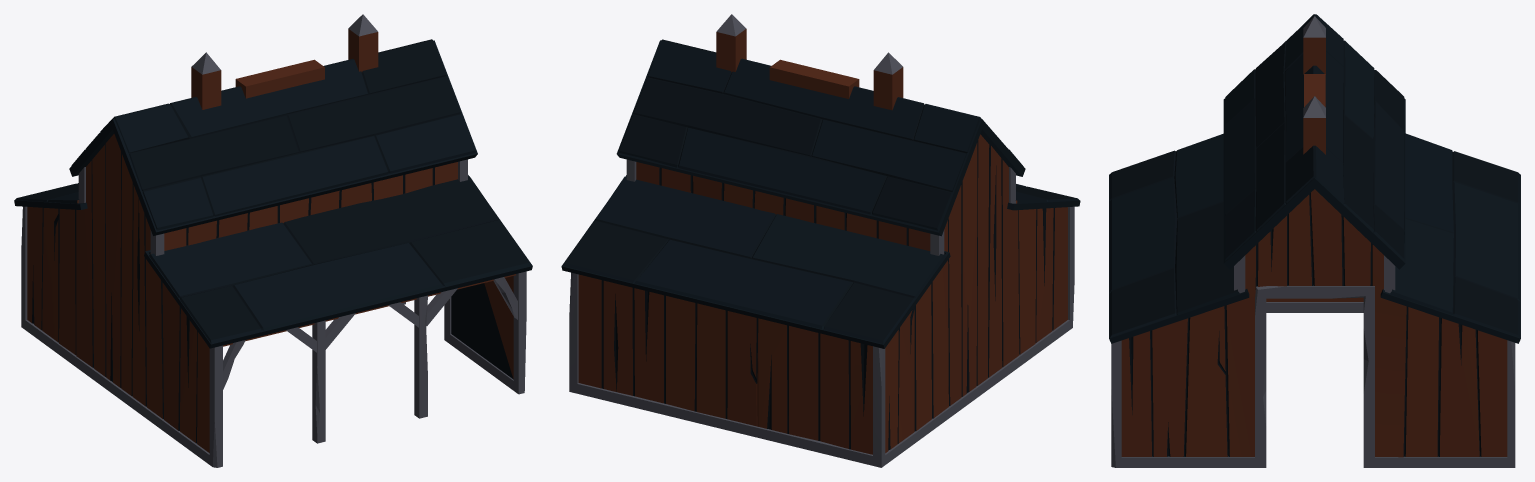
The model's file is Shed_3.fbx.
The picture shows the model from 3 angles, left to right: view 1: azimuth 30°, elevation 25°; view 2: azimuth 150°, elevation 25°; view 3: azimuth 270°, elevation 25°; orthographic projection. The views are drawn at different scales.
Parts seen in each view (by area): view 1: Shed_3; view 2: Shed_3; view 3: Shed_3.
Boxes of the visible parts, bbox=[...] form: Shed_3: bbox=[14, 14, 532, 467]; Shed_3: bbox=[561, 14, 1080, 467]; Shed_3: bbox=[1109, 14, 1520, 467].
Bounding box in the file's own units: 247 × 238 × 262.
